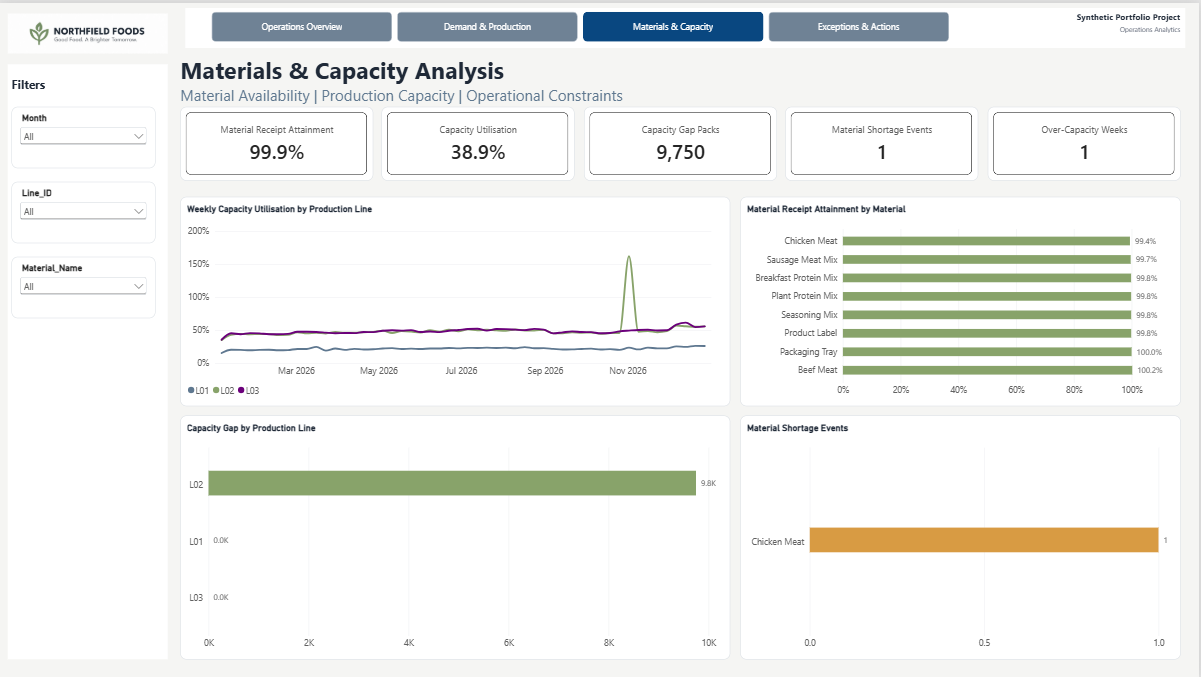

This screenshot's page, from the dashboard's own definition file:
{"tool":"powerbi","page":{"name":"Materials & Capacity","canvas":[1920,1080],"ordinal":2},"visuals":[{"type":"shape","box":[14,98,256,952],"z":0},{"type":"shape","box":[298,8,1600,64],"z":1000},{"type":"slicer","fields":{"Values":["dim_Week.Month"]},"box":[20,165,230,98],"z":2000},{"type":"slicer","fields":{"Values":["dim_Material.Material_Name"]},"box":[20,405,230,98],"z":3000},{"type":"slicer","fields":{"Values":["dim_ProductionLine.Line_ID"]},"box":[20,285,230,98],"z":4000},{"type":"cardVisual","fields":{"Data":["_Measures.Material Receipt Attainment %"]},"box":[290,165,308.8,118],"z":5000},{"type":"cardVisual","fields":{"Data":["_Measures.Material Shortage Events"]},"box":[1258.4,165,308.8,118],"z":6000},{"type":"cardVisual","fields":{"Data":["_Measures.Weighted Capacity Utilisation %"]},"box":[612.8,165,308.8,118],"z":7000},{"type":"cardVisual","fields":{"Data":["_Measures.Over-Capacity Line-Weeks"]},"box":[1581.2,165,308.8,118],"z":8000},{"type":"cardVisual","fields":{"Data":["_Measures.Total Capacity Gap Packs"]},"box":[935.6,165,308.8,118],"z":9000},{"type":"clusteredBarChart","title":"Material Receipt Attainment by Material","fields":{"Category":["dim_Material.Material_Name"],"Y":["_Measures.Material Receipt Attainment %"]},"box":[1185,310,705,335],"z":10000},{"type":"clusteredBarChart","title":"Material Shortage Events","fields":{"Category":["dim_Material.Material_Name"],"Y":["_Measures.Material Shortage Events"]},"box":[1185,660,705,390],"z":11000},{"type":"lineChart","title":"Weekly Capacity Utilisation by Production Line","fields":{"Category":["dim_Week.Week_Start"],"Series":["dim_ProductionLine.Line_ID"],"Y":["_Measures.Weighted Capacity Utilisation %"]},"box":[290,310,880,335],"z":12000},{"type":"clusteredBarChart","title":"Capacity Gap by Production Line","fields":{"Category":["dim_ProductionLine.Line_ID"],"Y":["_Measures.Total Capacity Gap Packs"]},"box":[290,660,880,390],"z":13000},{"type":"textbox","box":[290,82,1400,84],"z":14000},{"type":"textbox","box":[20,118,230,38],"z":15000},{"type":"textbox","box":[1600,12,290,52],"z":17000},{"type":"pageNavigator","box":[340,14,1180,48],"z":18000},{"type":"image","box":[14,0,256,98],"z":18001}]}

Visuals, with their boxes in screenshot pixels (x1, y1, x2, y2), scaled from the page's 1920x1080 canvas onto the 1201x677 screenshot:
shape: [9, 61, 169, 658]
shape: [186, 5, 1187, 45]
slicer - dim_Week.Month: [13, 103, 156, 165]
slicer - dim_Material.Material_Name: [13, 254, 156, 315]
slicer - dim_ProductionLine.Line_ID: [13, 179, 156, 240]
cardVisual - _Measures.Material Receipt Attainment %: [181, 103, 375, 177]
cardVisual - _Measures.Material Shortage Events: [787, 103, 980, 177]
cardVisual - _Measures.Weighted Capacity Utilisation %: [383, 103, 576, 177]
cardVisual - _Measures.Over-Capacity Line-Weeks: [989, 103, 1182, 177]
cardVisual - _Measures.Total Capacity Gap Packs: [585, 103, 778, 177]
"Material Receipt Attainment by Material" clusteredBarChart: [741, 194, 1182, 404]
"Material Shortage Events" clusteredBarChart: [741, 414, 1182, 658]
"Weekly Capacity Utilisation by Production Line" lineChart: [181, 194, 732, 404]
"Capacity Gap by Production Line" clusteredBarChart: [181, 414, 732, 658]
textbox: [181, 51, 1057, 104]
textbox: [13, 74, 156, 98]
textbox: [1001, 8, 1182, 40]
pageNavigator: [213, 9, 951, 39]
image: [9, 0, 169, 61]
